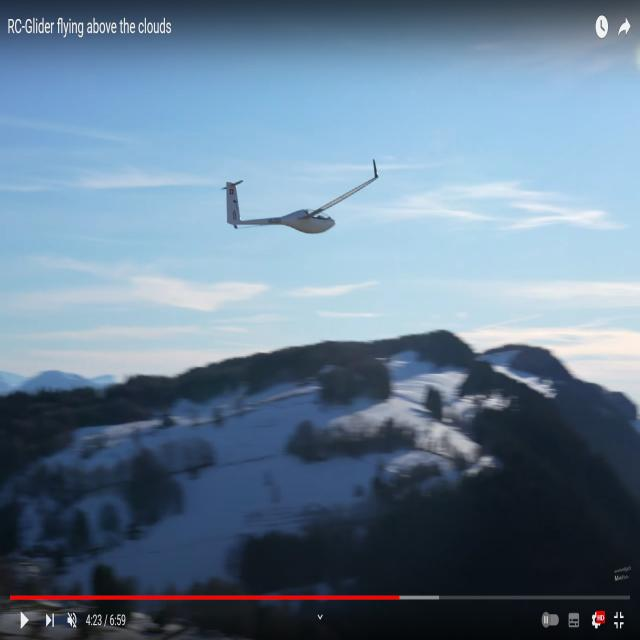iha: (225, 167, 380, 230)
